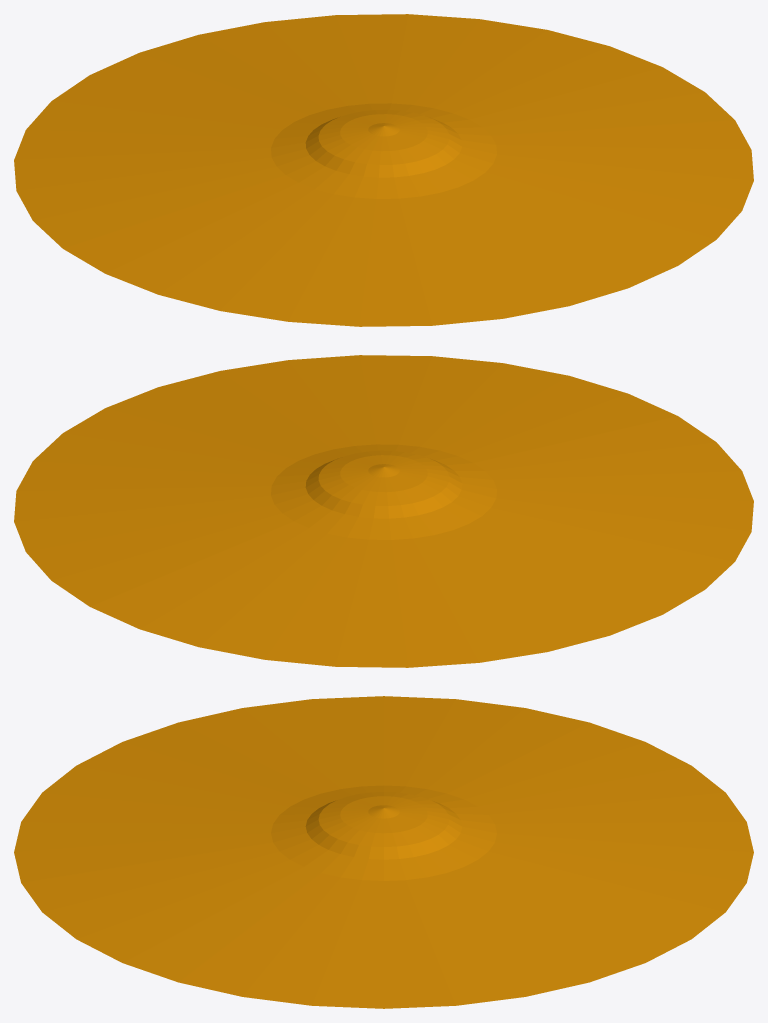
File: cymbale1.fbx
3 renders of one model, top to bottom at view 1: azimuth 30°, elevation 25°; view 2: azimuth 150°, elevation 25°; view 3: azimuth 270°, elevation 25°, orthographic.
Parts seen in each view (by area): view 1: Cylinder; view 2: Cylinder; view 3: Cylinder.
Part boxes in pixels (box(x1,y1,x2,y2)): Cylinder: box(14, 14, 753, 326); Cylinder: box(14, 355, 753, 667); Cylinder: box(14, 696, 753, 1008).
Bounding box in the file's own units: 2 × 0.1324 × 2.
